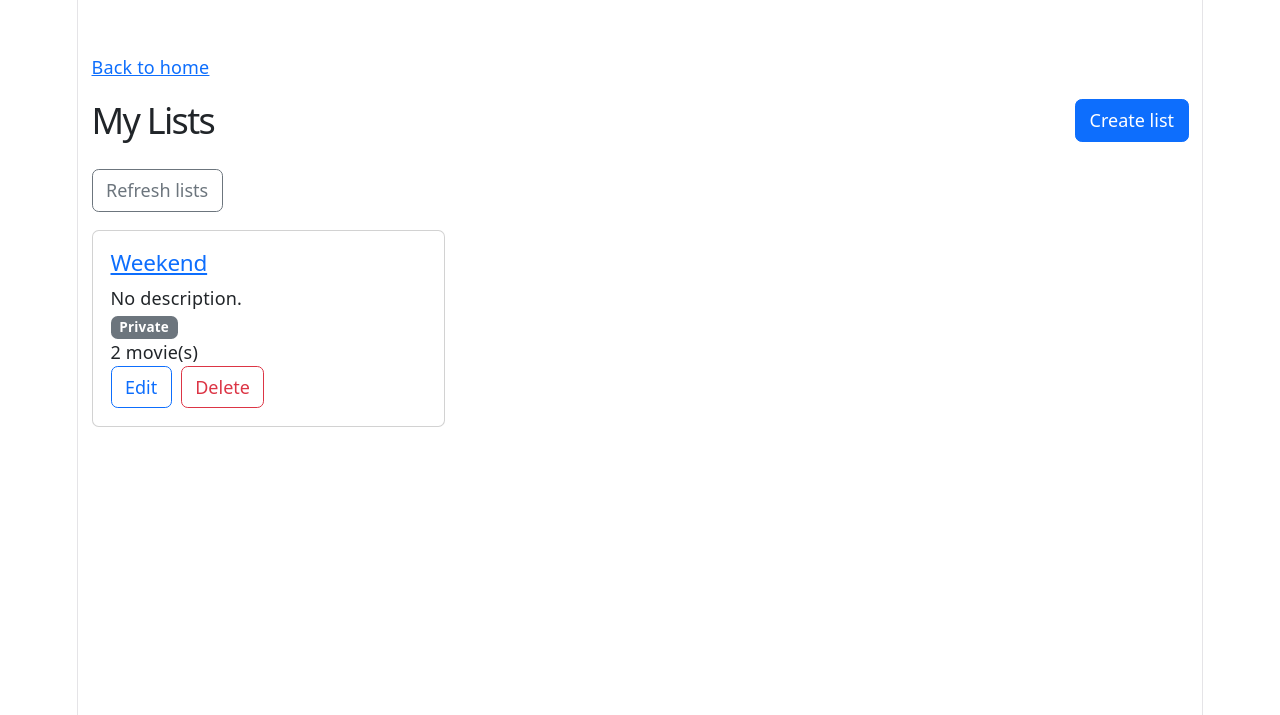
Scenario: preserves form values after backend validation errors and allows retry
Check: the element "Weekend" is shown, box [92,230,445,427]
Click the button "Edit" at (141, 387), box [110,366,172,408]
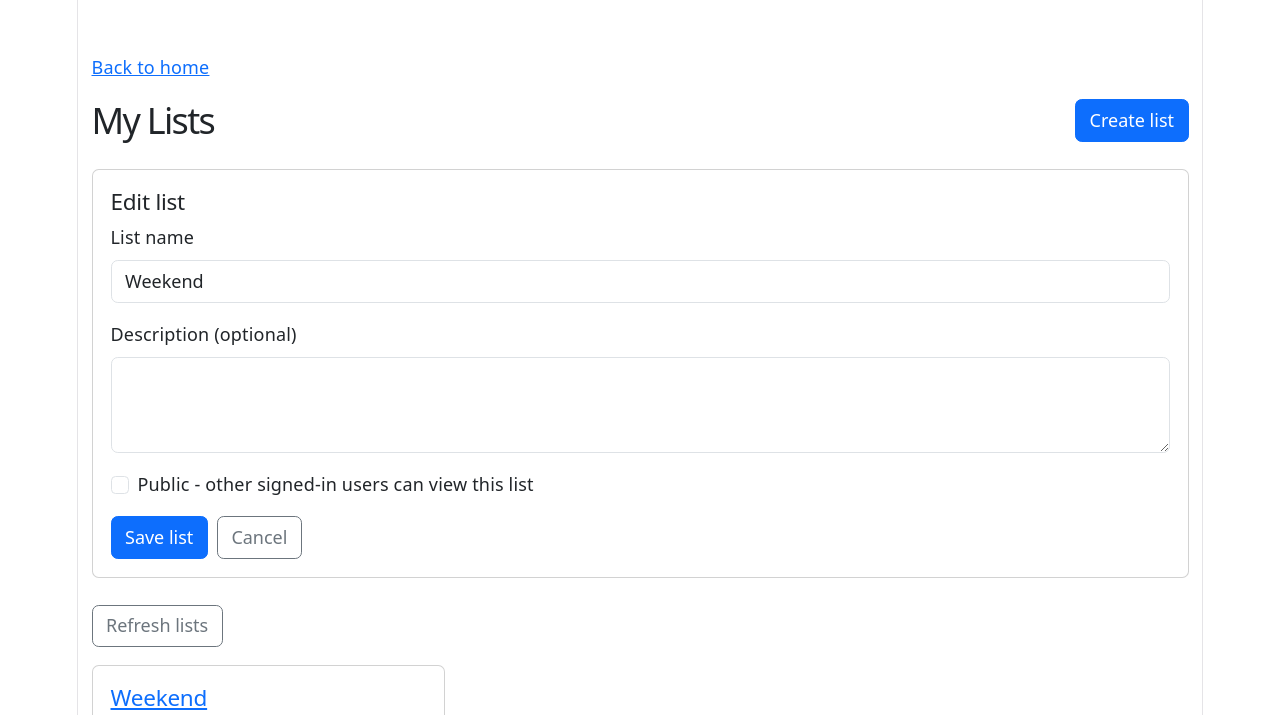
Click the button "Save list" at (159, 537), box [110,516,208,559]
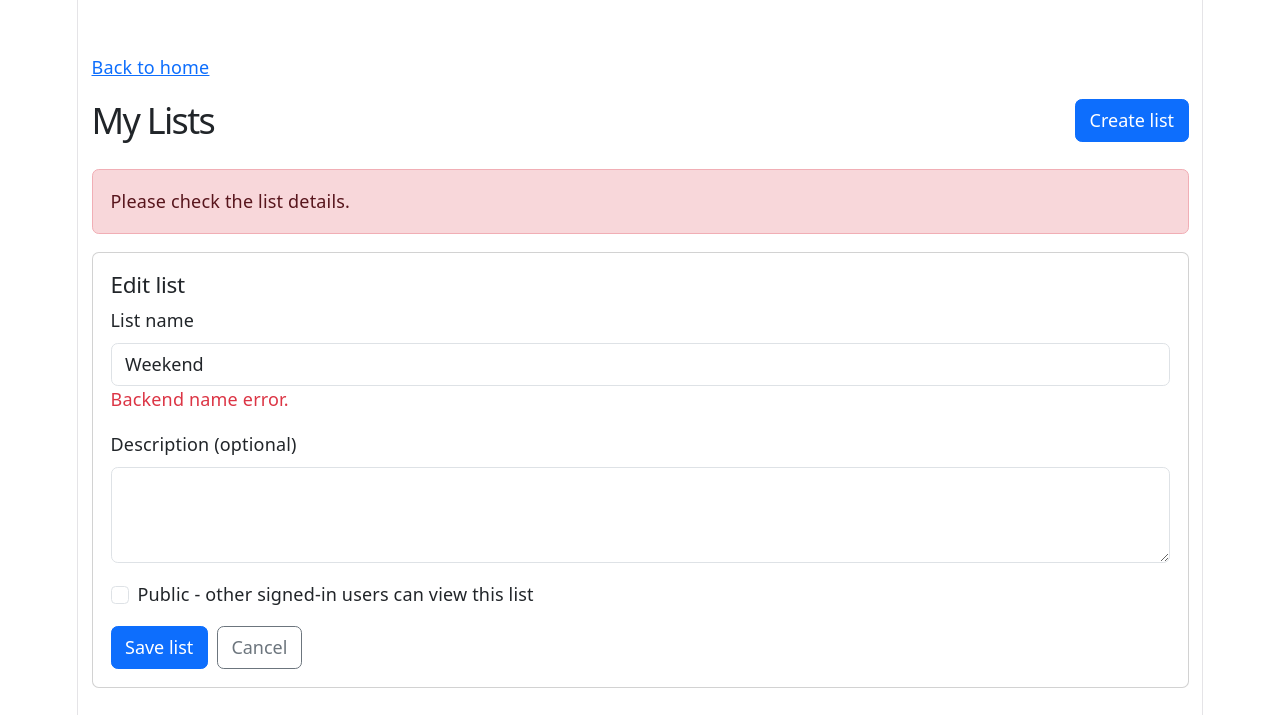
Check: the field labelled "List name" holds "Weekend", box [110,343,1170,386]
Check: the text "Backend name error." is shown, box [110,387,289,411]
Click the button "Save list" at (159, 647), box [110,626,208,669]
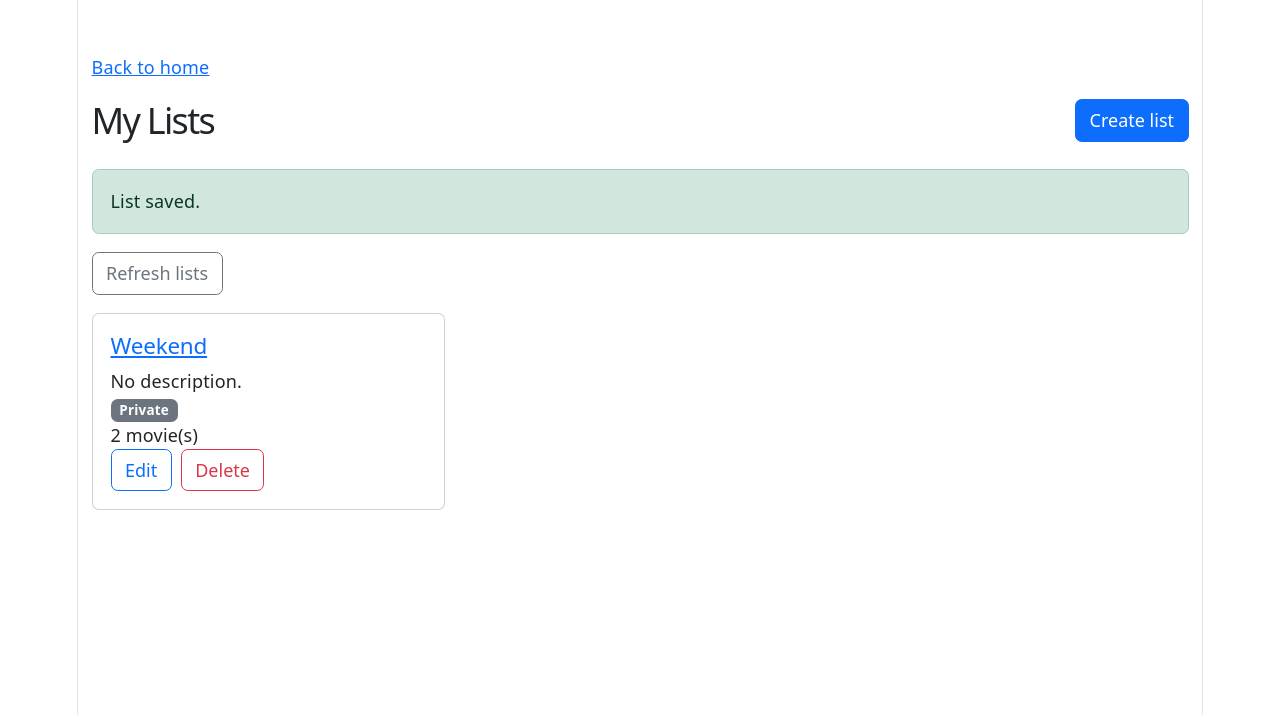
Check: the text "List saved." is shown, box [92,169,1188,234]
